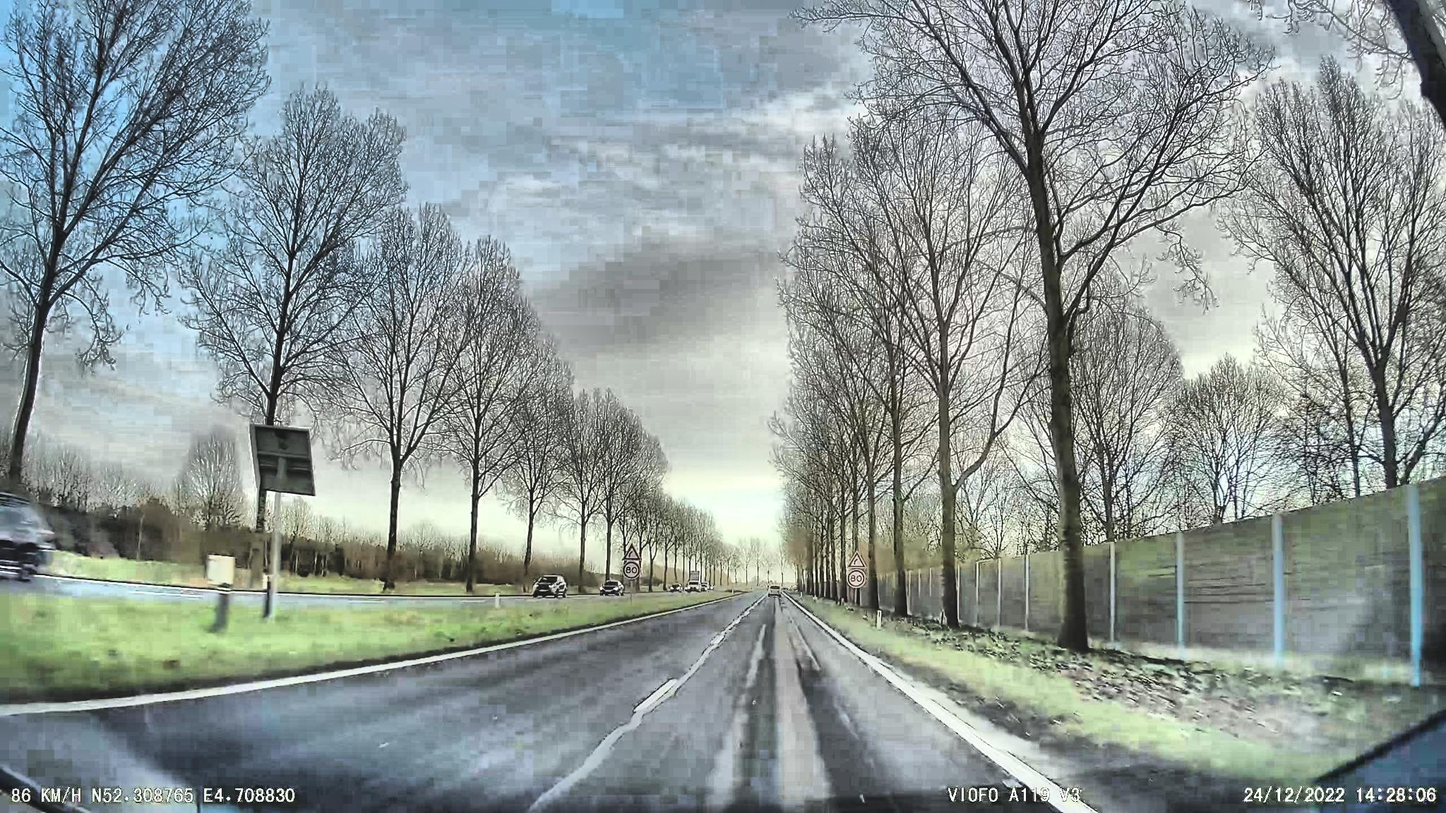Roads: (0, 593, 1097, 813)
